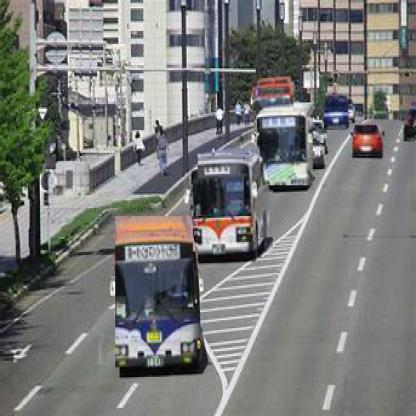bus: (115, 217, 194, 370), (197, 154, 274, 259), (259, 103, 314, 188), (252, 76, 295, 113)
car: (353, 126, 385, 159), (324, 94, 349, 133), (400, 108, 416, 144), (313, 144, 324, 170), (314, 125, 325, 146)
